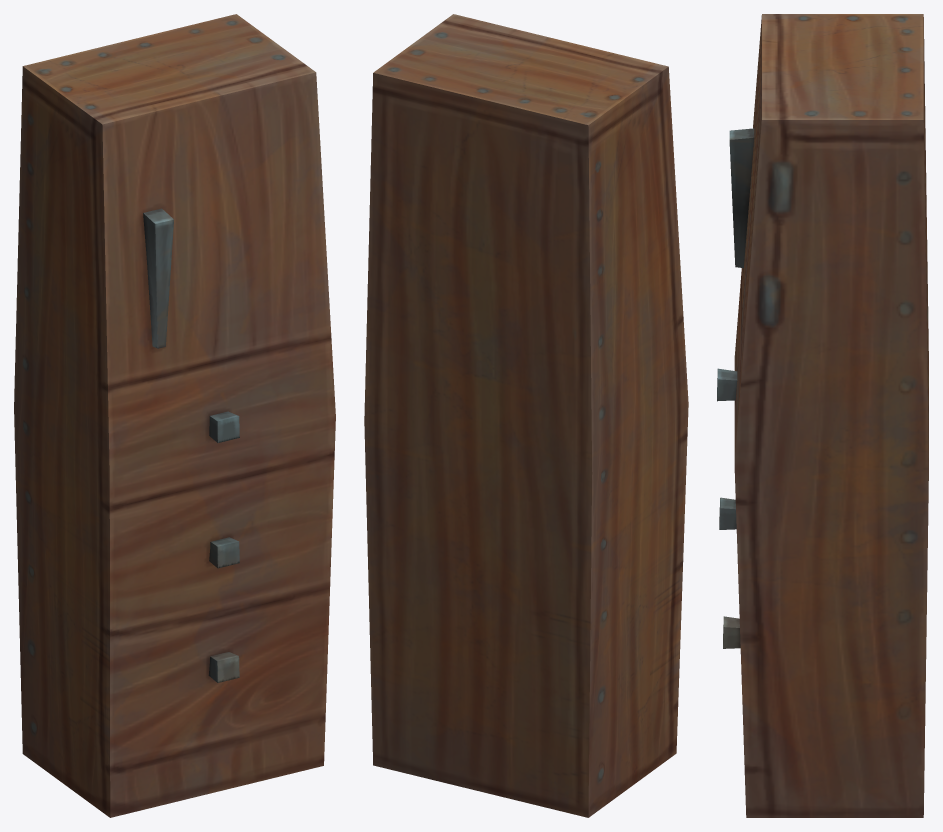
The model's file is furnitureSet_cupboard_2.FBX.
The picture shows the model from 3 angles, left to right: view 1: azimuth 30°, elevation 25°; view 2: azimuth 150°, elevation 25°; view 3: azimuth 270°, elevation 25°; orthographic projection.
Parts seen in each view (by area): view 1: furnitureSet_cupboard_2; view 2: furnitureSet_cupboard_2; view 3: furnitureSet_cupboard_2.
Boxes of the visible parts, left/top/right/bottom form: furnitureSet_cupboard_2: left=14, top=14, right=335, bottom=817; furnitureSet_cupboard_2: left=364, top=14, right=688, bottom=817; furnitureSet_cupboard_2: left=717, top=14, right=928, bottom=817.
Bounding box in the file's own units: 59.02 × 171 × 47.17.
1 material, 1 textured.
